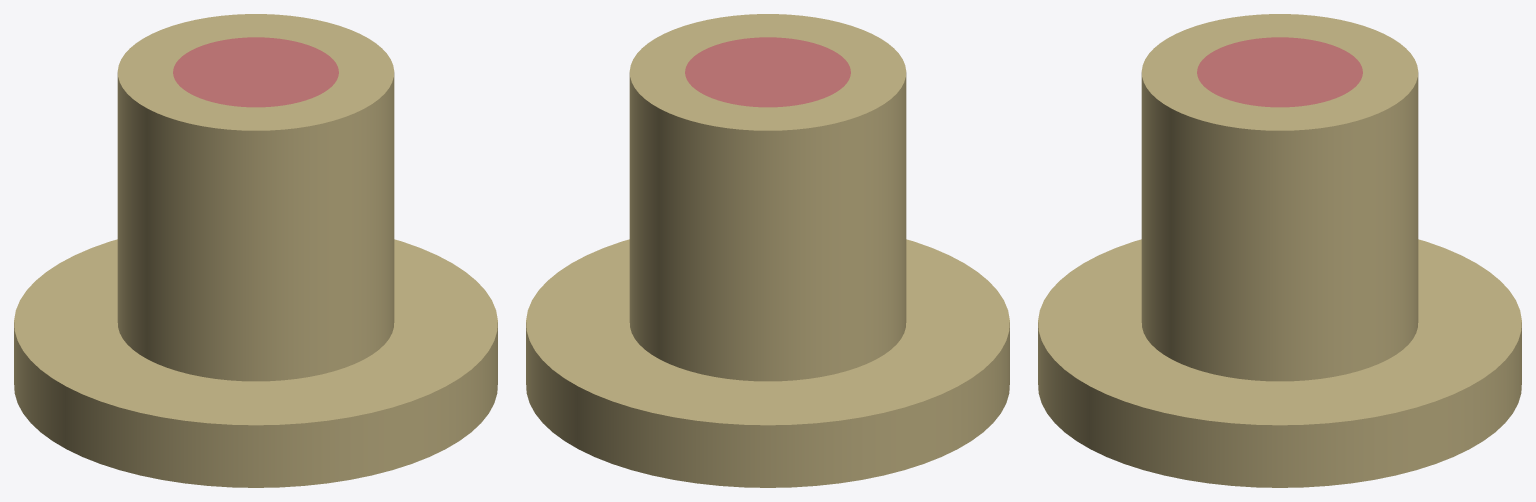
Rendered from step_05.glb.
3 renders of one model, left to right at view 1: azimuth 30°, elevation 25°; view 2: azimuth 150°, elevation 25°; view 3: azimuth 270°, elevation 25°, orthographic.
Visible parts, largest first — view 1: part__flanged bush, removed__flanged bush; view 2: part__flanged bush, removed__flanged bush; view 3: part__flanged bush, removed__flanged bush.
Boxes of the visible parts, x1,y1,x2,y2 form: part__flanged bush: (14,14,497,487); removed__flanged bush: (173,37,338,107); part__flanged bush: (526,14,1009,487); removed__flanged bush: (685,37,850,107); part__flanged bush: (1038,14,1521,487); removed__flanged bush: (1197,37,1362,107).
Bounding box in the file's own units: 69.96 × 50 × 69.98.
